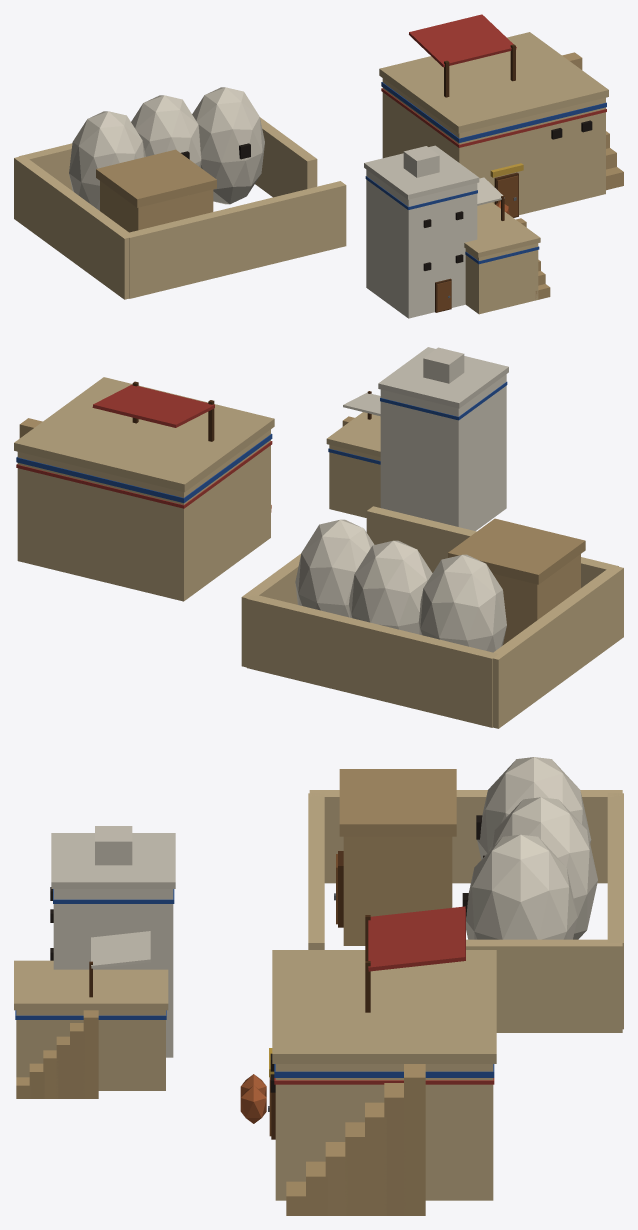
The model's file is gnoll_compound.glb.
3 renders of one model, top to bottom at view 1: azimuth 30°, elevation 25°; view 2: azimuth 150°, elevation 25°; view 3: azimuth 270°, elevation 25°, orthographic. The views are drawn at different scales.
Visible parts, largest first — view 1: gnoll_compound; view 2: gnoll_compound; view 3: gnoll_compound.
Part boxes in pixels (x1,y1,x2,y2): gnoll_compound: (14, 14, 623, 318); gnoll_compound: (14, 347, 623, 728); gnoll_compound: (14, 757, 623, 1215).
Bounding box in the file's own units: 5.9 × 1.68 × 4.48.
